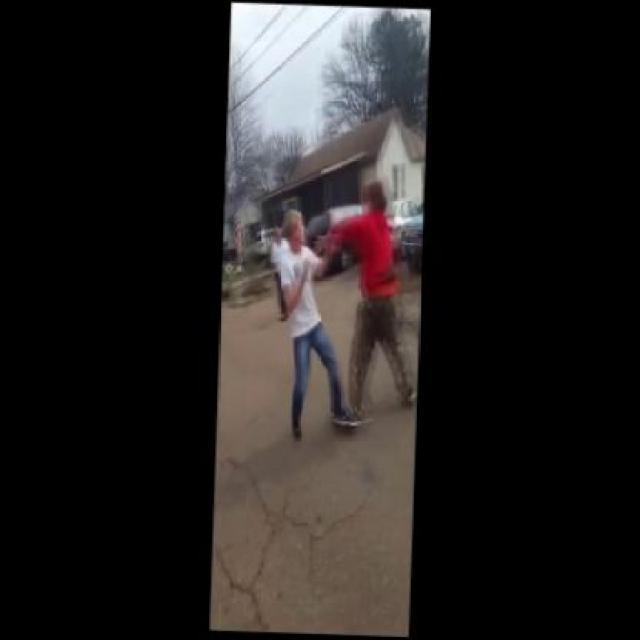fight: (282, 176, 408, 344)
